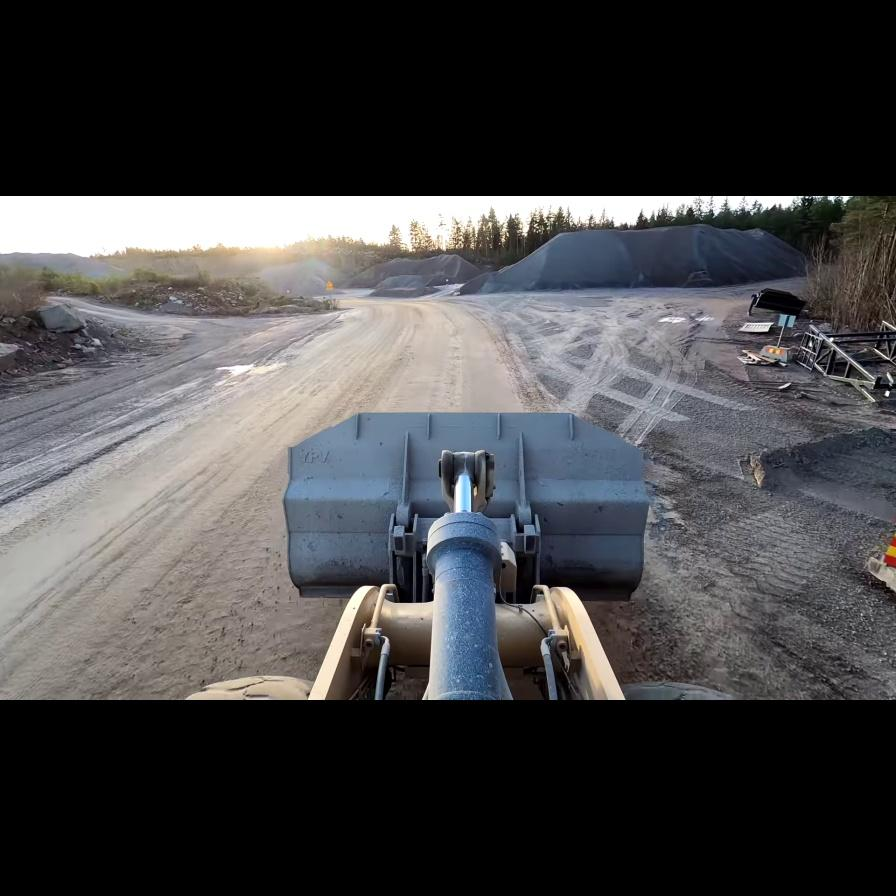anchor: (439, 449, 496, 511)
pile of gravel: (458, 223, 804, 294), (347, 255, 485, 298), (1, 252, 125, 282)
